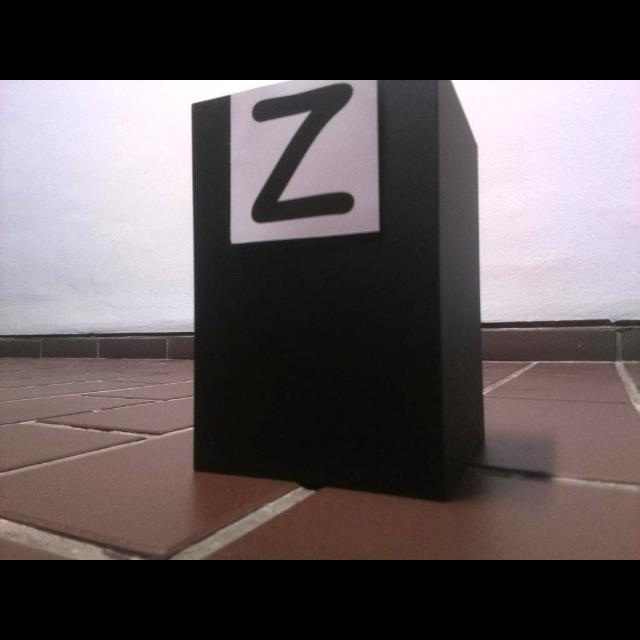Z: (252, 84, 353, 222)
